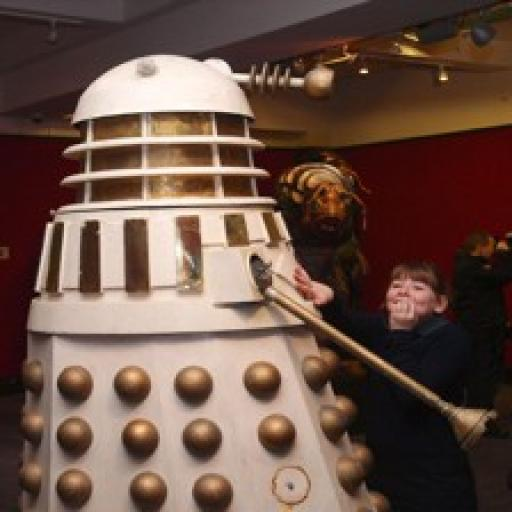dalek: (10, 52, 502, 512)
